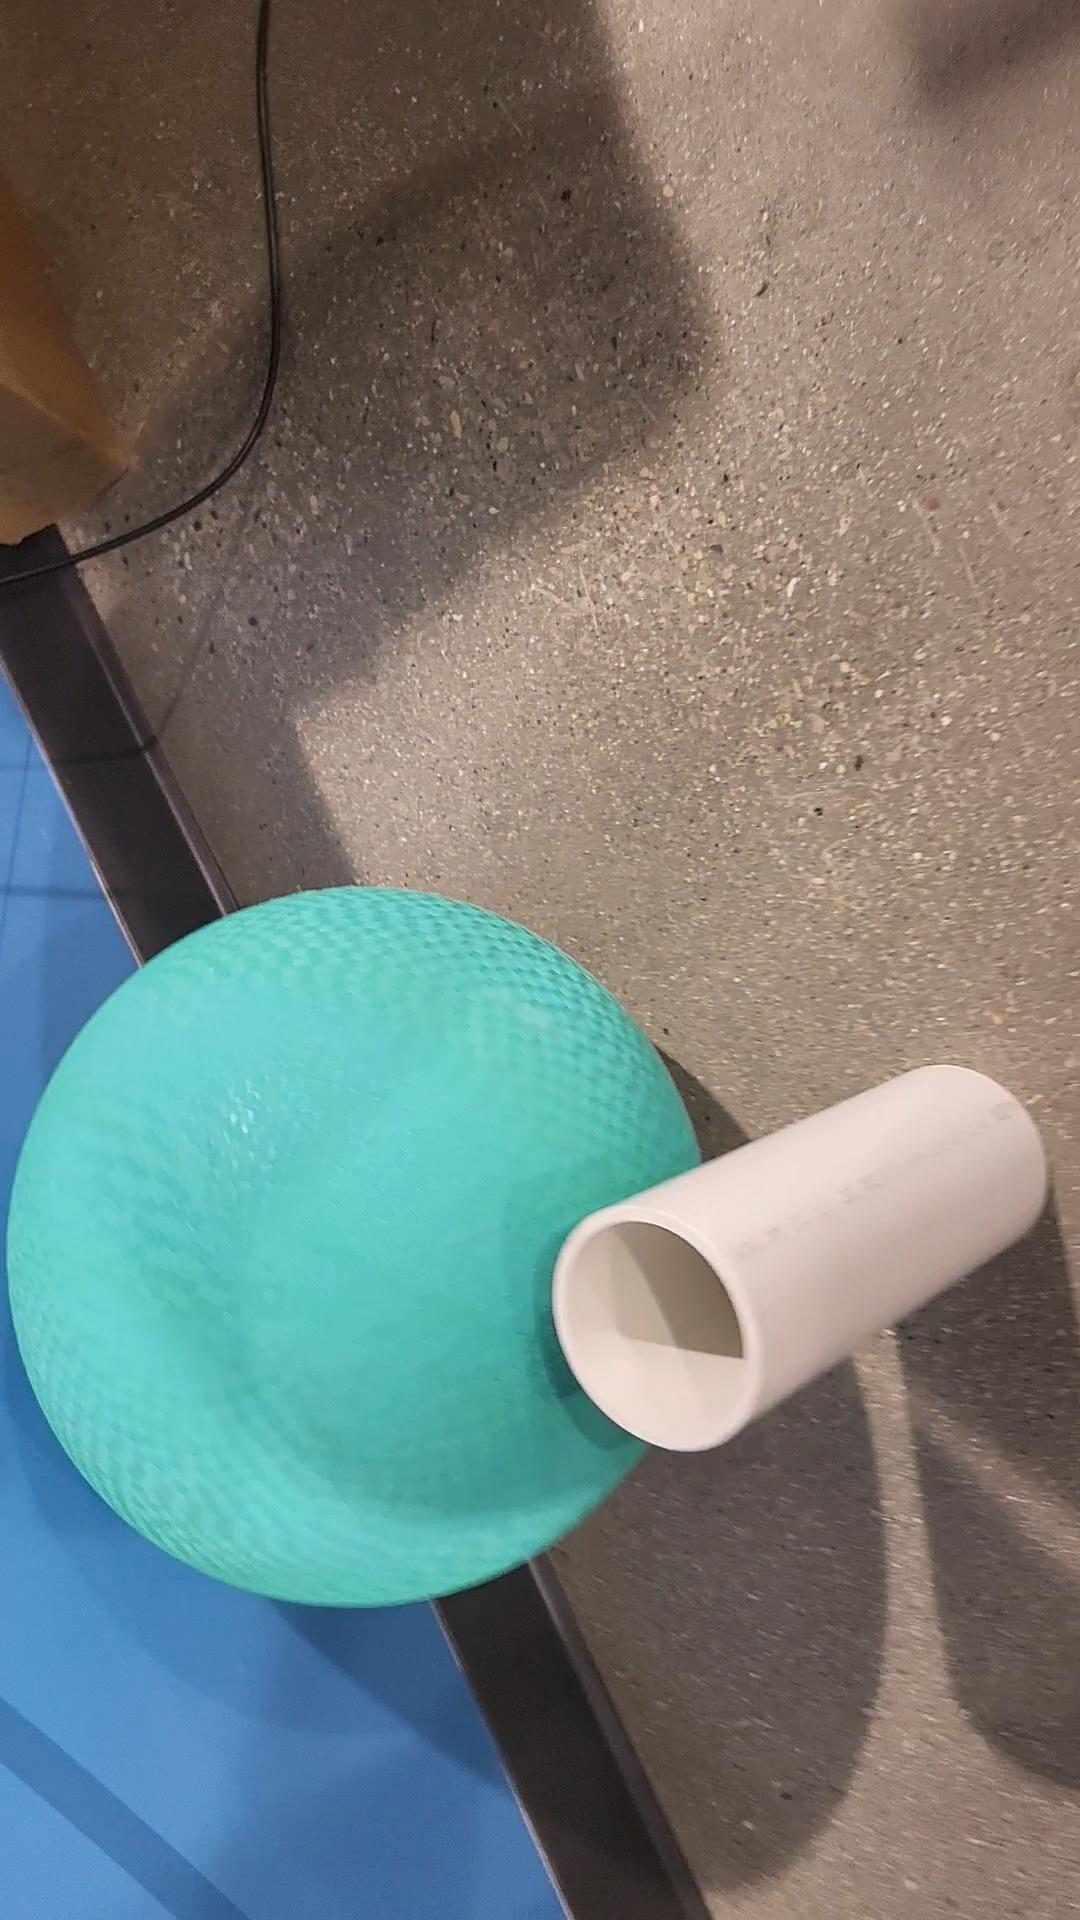algae: (11, 887, 712, 1605)
coral: (558, 1068, 1050, 1452)
